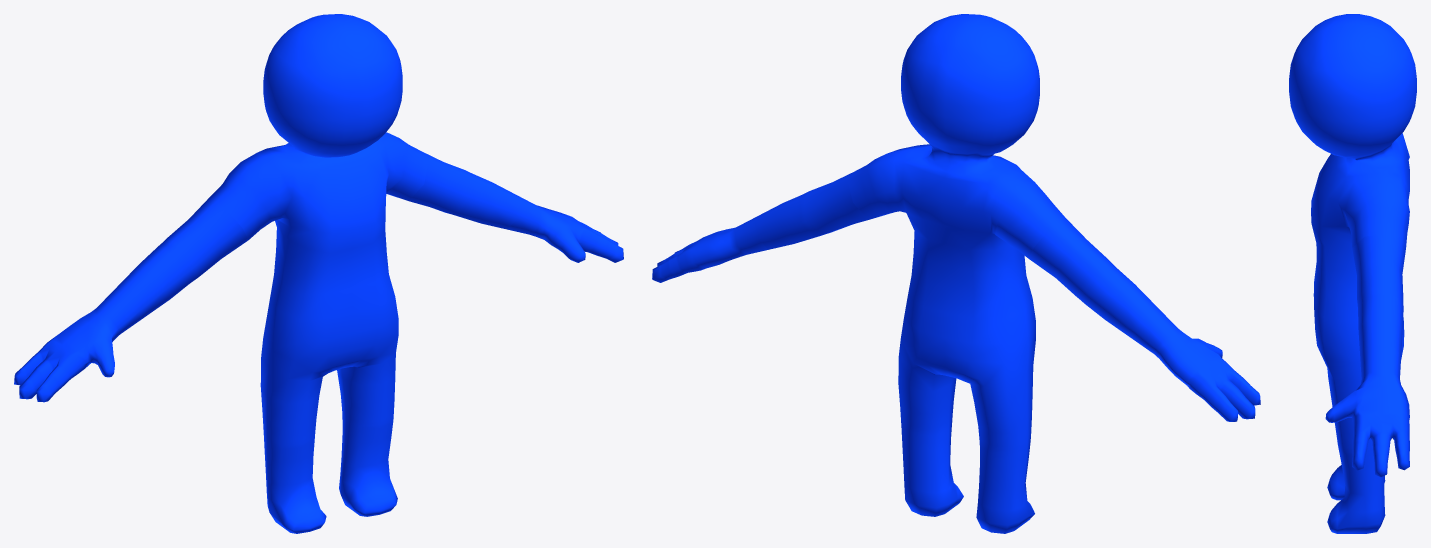
Rendered from PlayerCharacter V2.fbx.
3 renders of one model, left to right at view 1: azimuth 30°, elevation 25°; view 2: azimuth 150°, elevation 25°; view 3: azimuth 270°, elevation 25°, orthographic.
Parts seen in each view (by area): view 1: Skin; view 2: Skin; view 3: Skin.
Part boxes in pixels (<box>): Skin: <box>14,14,623,533</box>; Skin: <box>652,14,1260,533</box>; Skin: <box>1289,14,1416,533</box>.
Bounding box in the file's own units: 2.39 × 1.88 × 0.4468.
